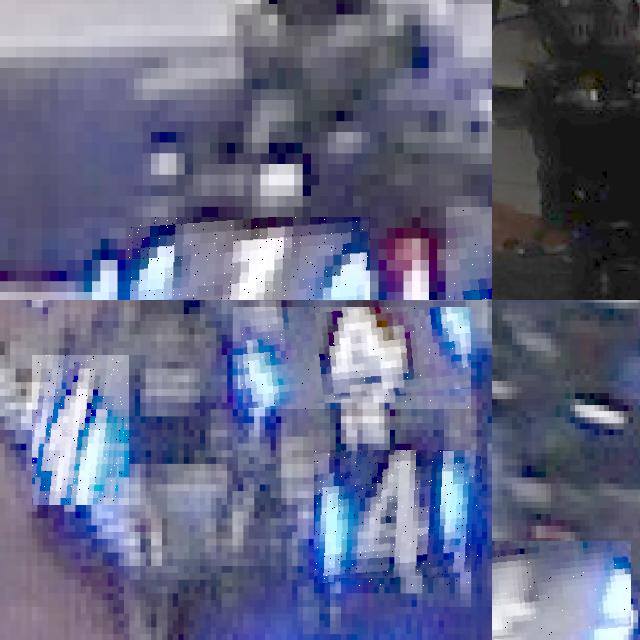B1: (126, 217, 370, 300)
B4: (233, 308, 471, 410), (314, 451, 482, 586), (32, 355, 129, 505), (492, 541, 631, 640)
